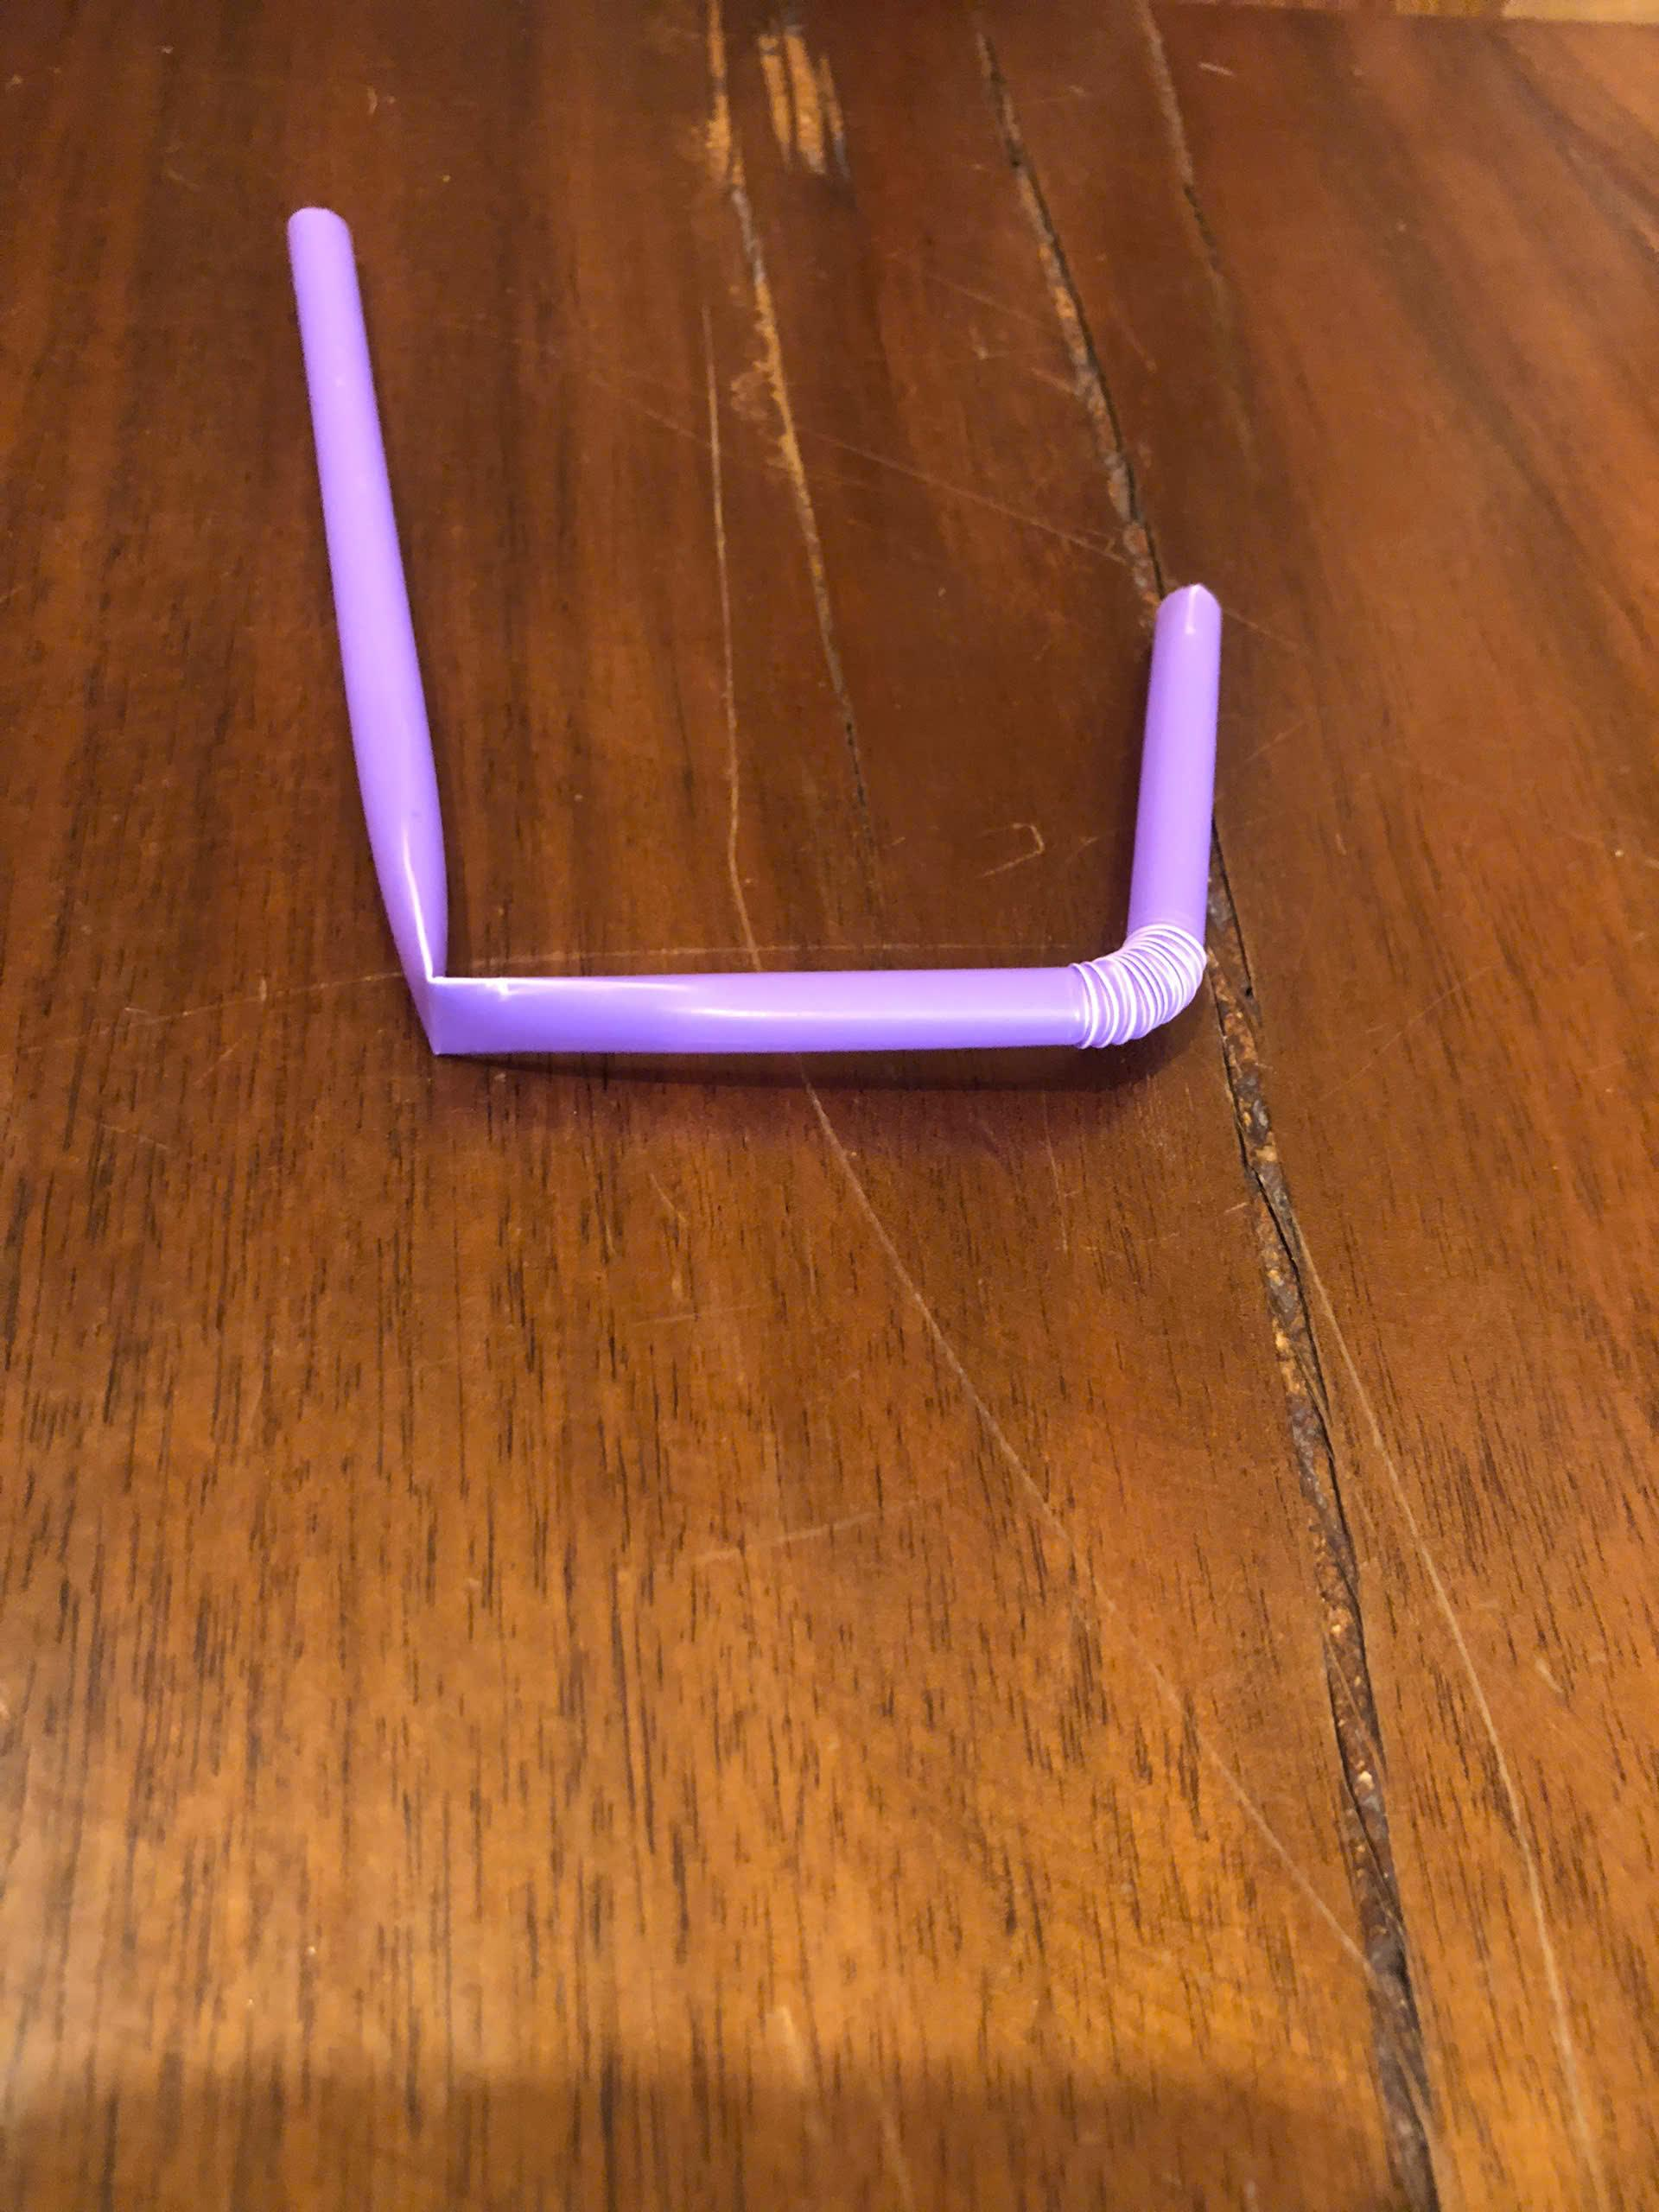Vo co: (285, 204, 1224, 1059)
